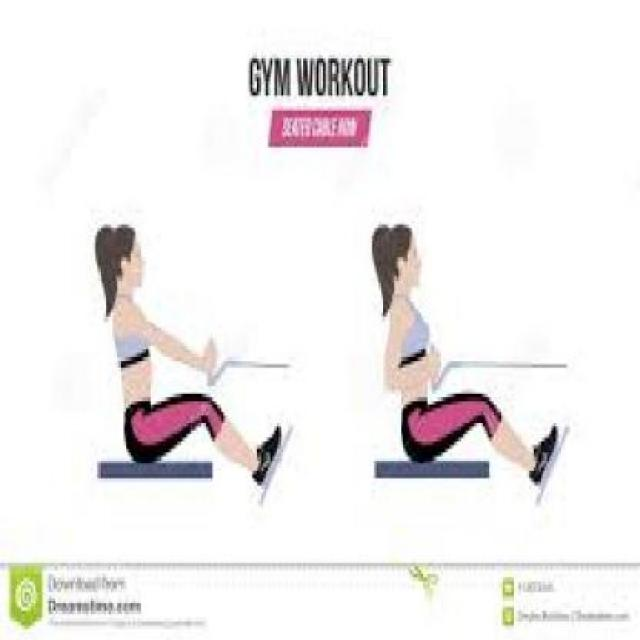Seated Cable Rows: (346, 192, 588, 518), (78, 192, 297, 506)
